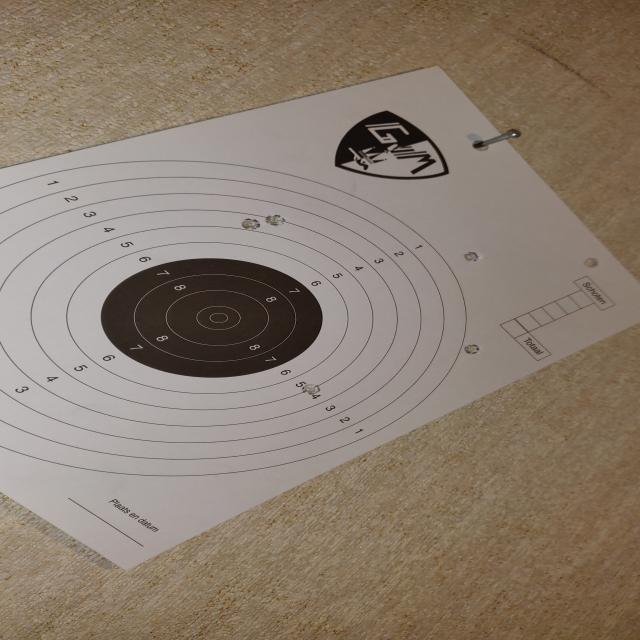5: (240, 218, 264, 232), (266, 213, 285, 227)
6: (300, 382, 326, 394)
Black Contour: (100, 257, 324, 378)
Target: (2, 158, 470, 478)
hole: (464, 342, 484, 356), (462, 251, 485, 263)
